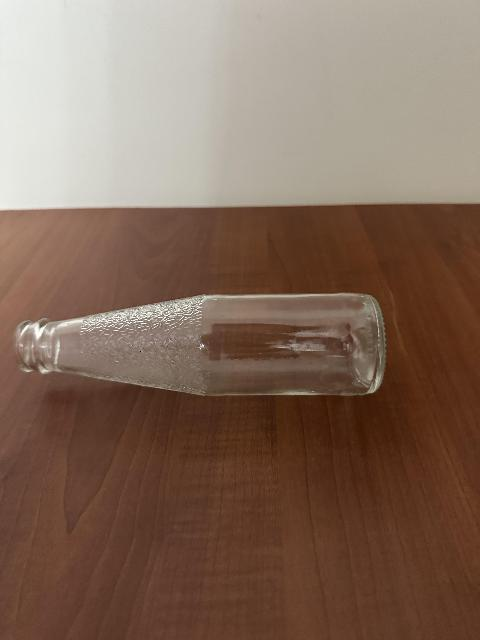Cam: (11, 289, 388, 398)
